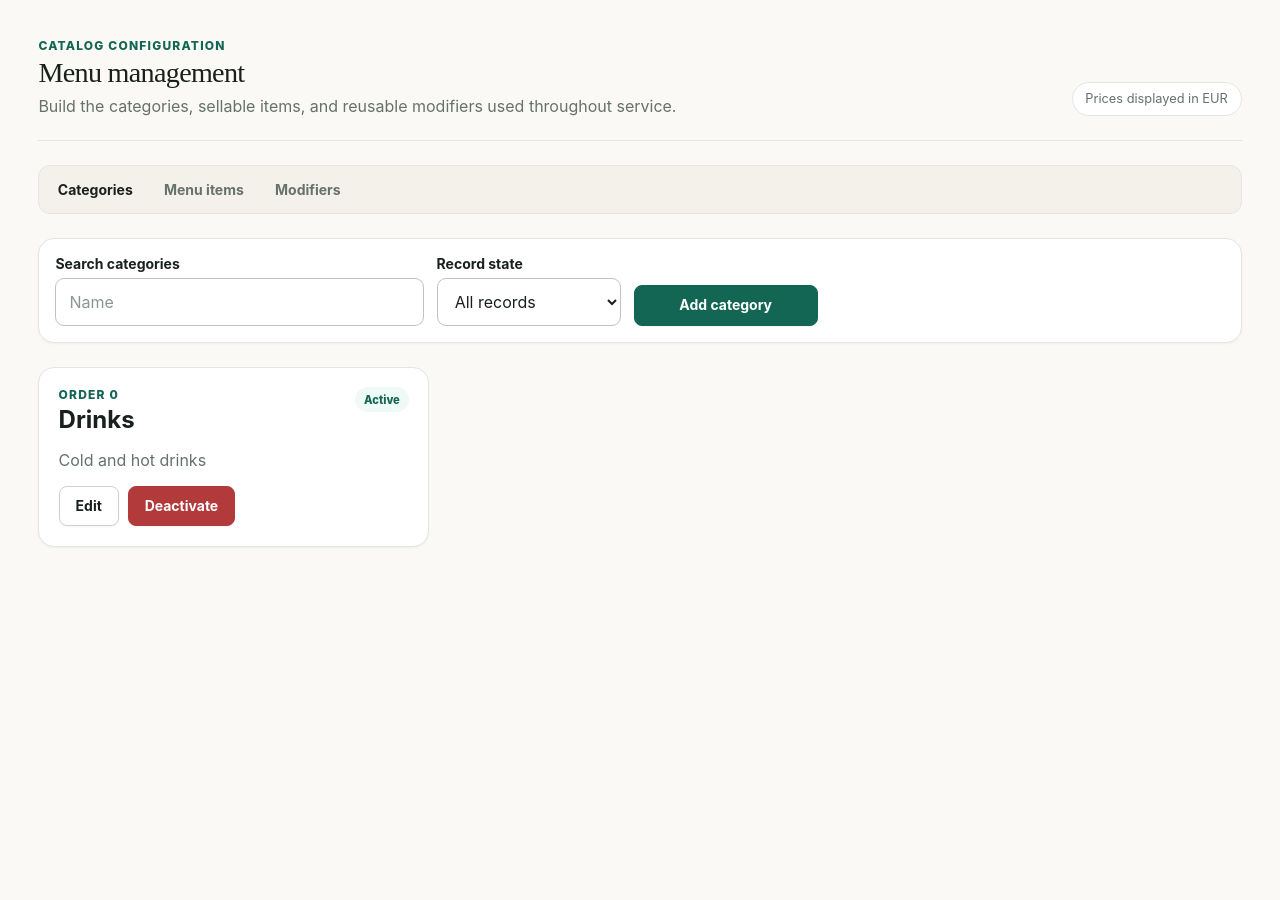
it: menu page › creates a category through React Hook Form validation and invalidates menu queries
Expected: the heading "Drinks" is shown, [59,404,135,434]
Click the button "Add category": (726, 306) [634,285,818,326]
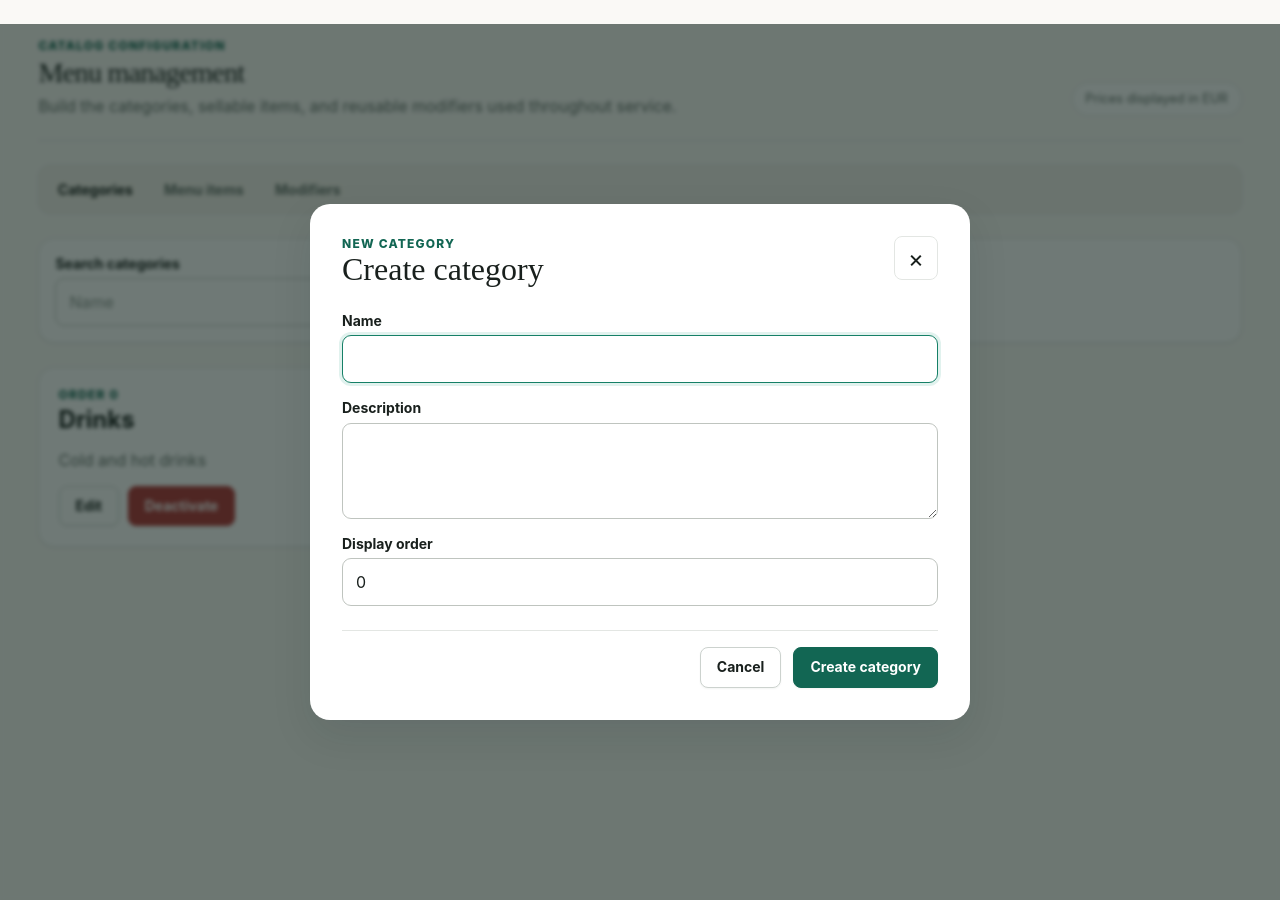
Click the button "Create category": (866, 668) [793,647,938,688]
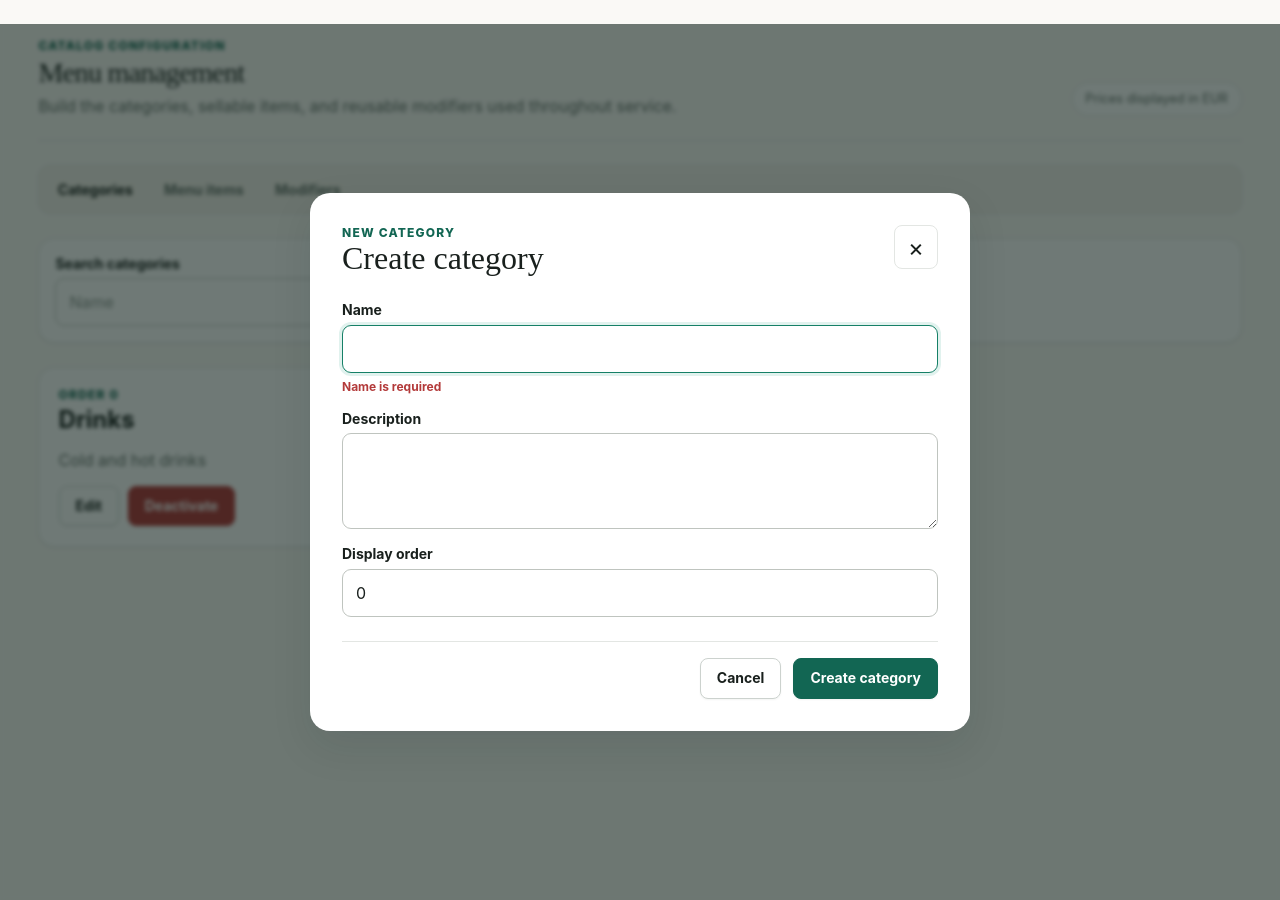
Now the text "Name is required" is shown, box [342,379,441,394]
In the field labelled "Name": (640, 349) [342,325,938,373], type "Desserts"
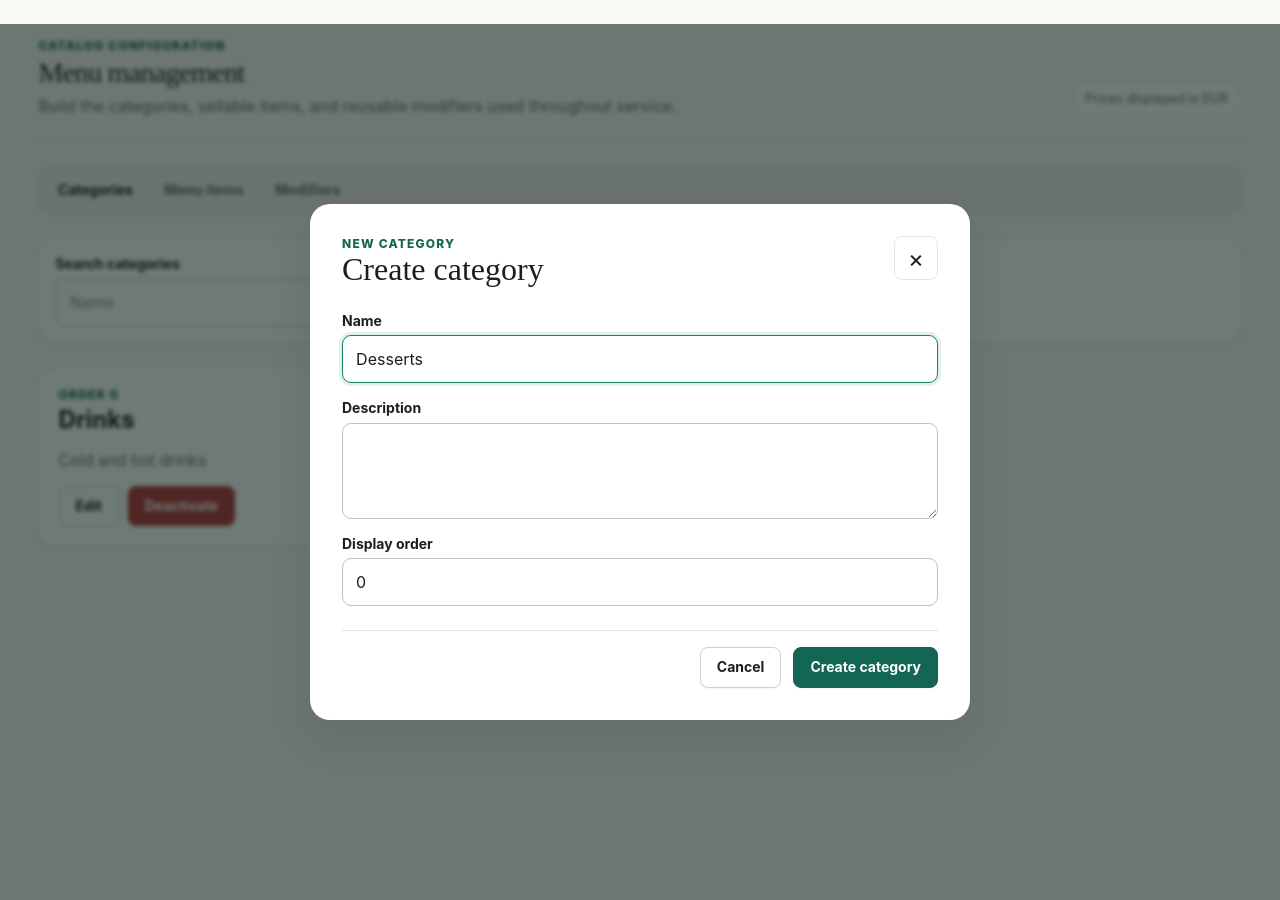
Click the button "Create category": (866, 668) [793,647,938,688]
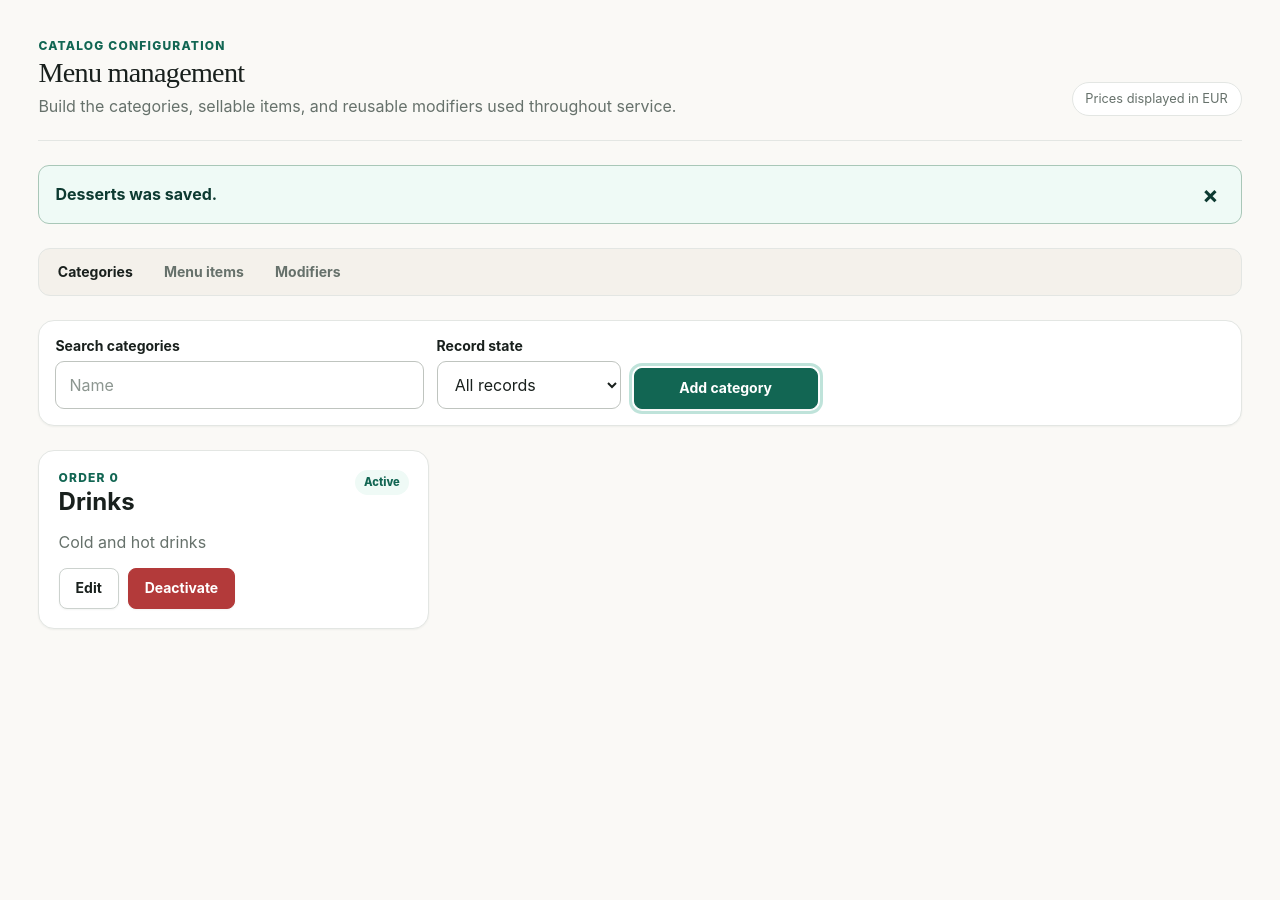
Now the message shows "Desserts was saved.", box [55,184,217,204]
